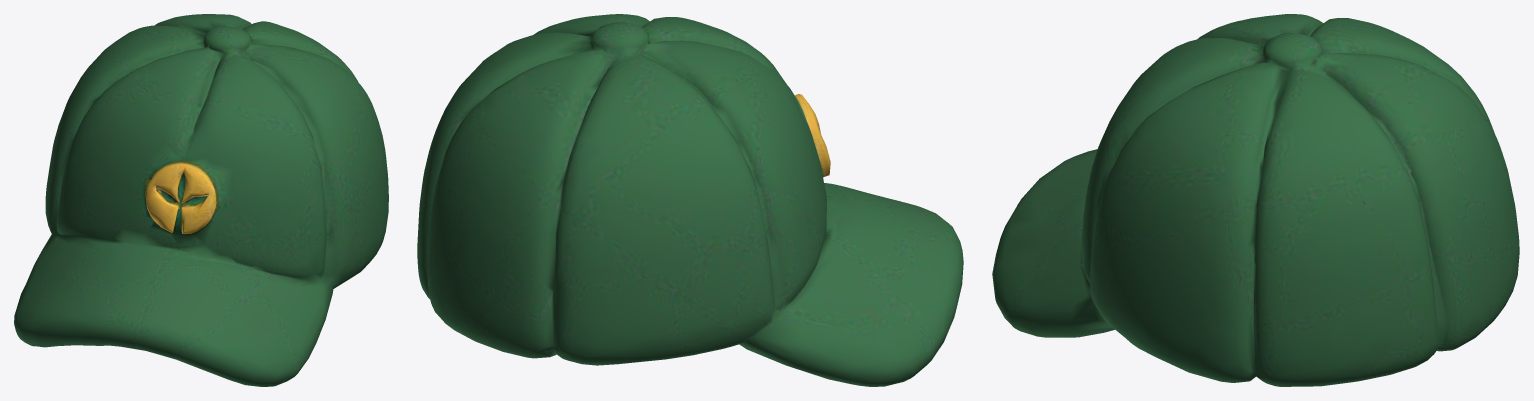
The model's file is deco-cap.glb.
3 renders of one model, left to right at view 1: azimuth 30°, elevation 25°; view 2: azimuth 150°, elevation 25°; view 3: azimuth 270°, elevation 25°, orthographic. The views are drawn at different scales.
Visible parts, largest first — view 1: tripo_node_28d0192a-09af-45da-9f6e-0f35055ce625; view 2: tripo_node_28d0192a-09af-45da-9f6e-0f35055ce625; view 3: tripo_node_28d0192a-09af-45da-9f6e-0f35055ce625.
Boxes of the visible parts, x1,y1,x2,y2 form: tripo_node_28d0192a-09af-45da-9f6e-0f35055ce625: [14, 14, 388, 386]; tripo_node_28d0192a-09af-45da-9f6e-0f35055ce625: [417, 14, 963, 386]; tripo_node_28d0192a-09af-45da-9f6e-0f35055ce625: [992, 14, 1519, 386].
Size of the model in its own units: 0.9789 by 0.6519 by 0.9672.
1 material, 1 textured.
